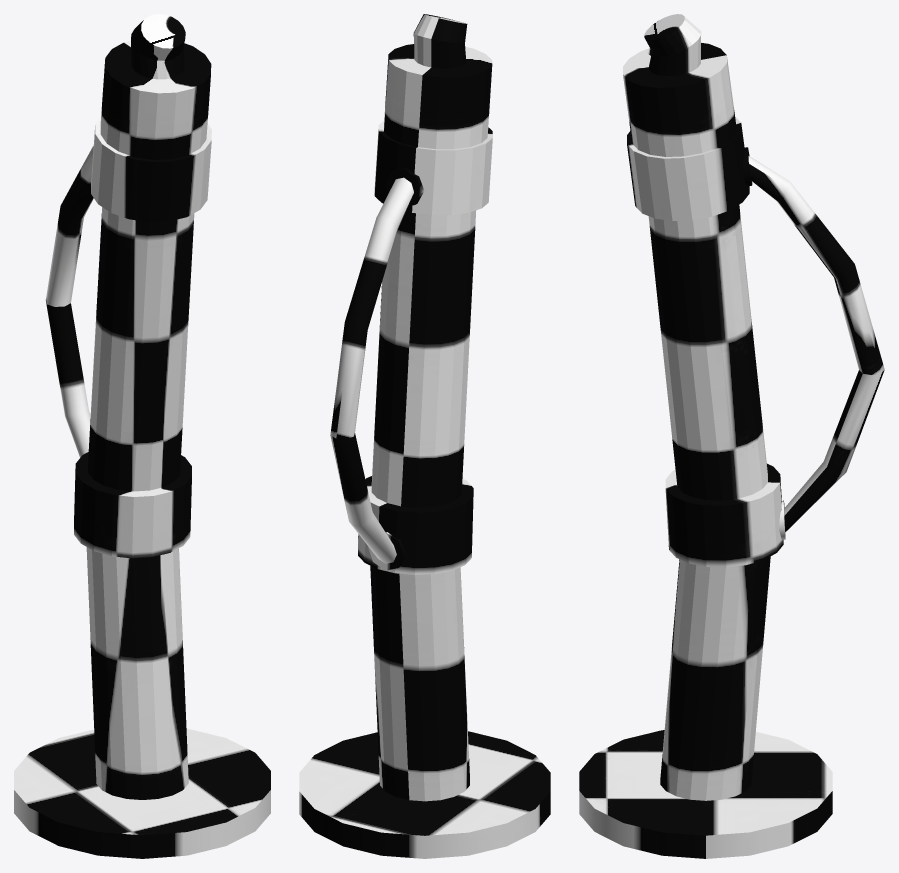
Rendered from levier.FBX.
The picture shows the model from 3 angles, left to right: view 1: azimuth 30°, elevation 25°; view 2: azimuth 150°, elevation 25°; view 3: azimuth 270°, elevation 25°; orthographic projection. The views are drawn at different scales.
Parts seen in each view (by area): view 1: Cylinder001; view 2: Cylinder001; view 3: Cylinder001.
Part boxes in pixels (<box>): Cylinder001: <box>14,14,270,858</box>; Cylinder001: <box>299,14,550,858</box>; Cylinder001: <box>579,14,884,858</box>.
Size of the model in its own units: 10 by 33.73 by 11.88.
Materials: 1 (1 with a texture image).
